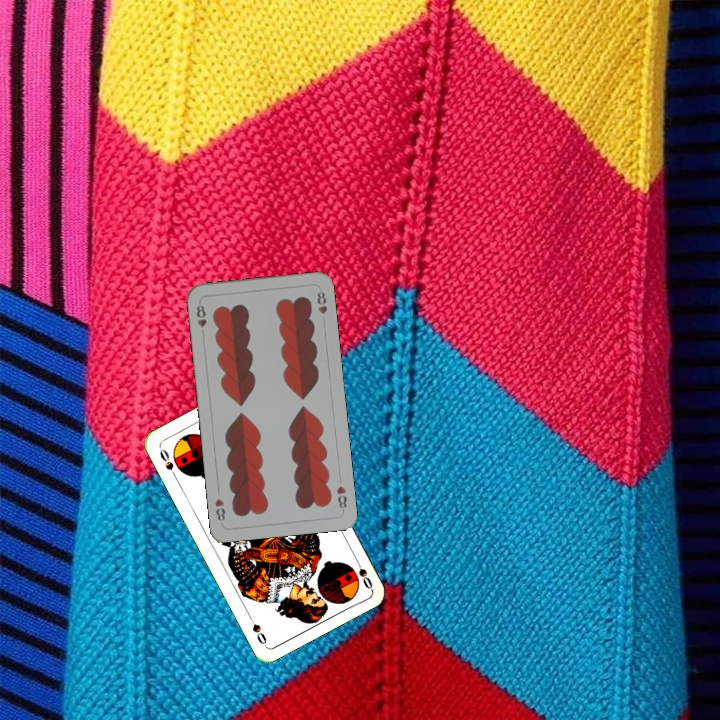H8: (192, 298, 209, 330), (332, 482, 349, 514)
SO: (350, 553, 375, 592), (155, 443, 179, 481)
